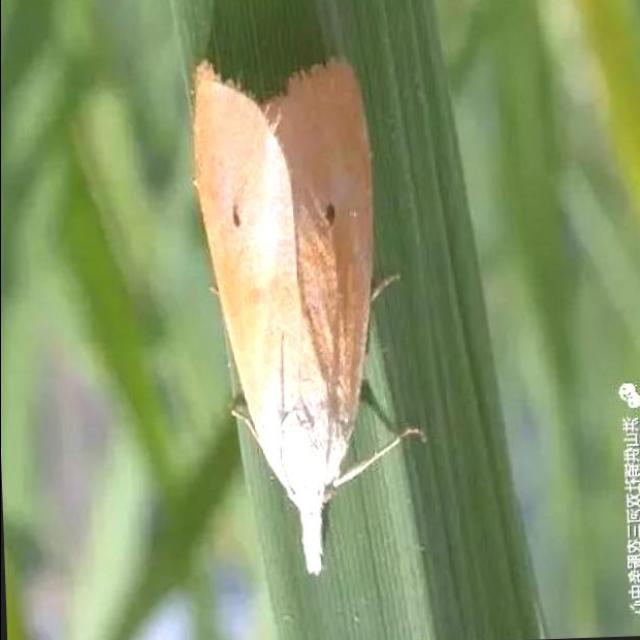stem borer: (191, 60, 424, 574)
